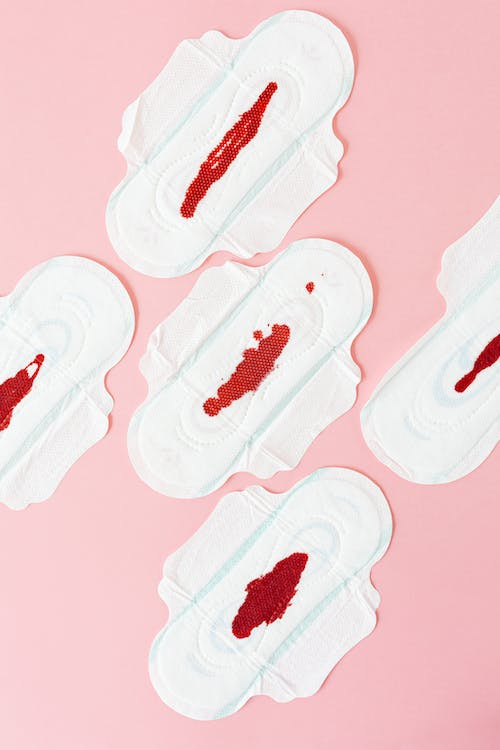blood: (197, 268, 327, 419), (177, 77, 280, 221), (229, 546, 310, 642), (0, 350, 48, 434), (450, 330, 500, 395)
